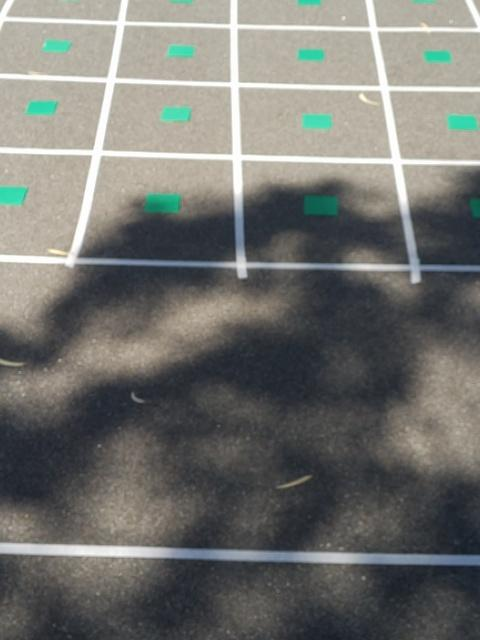weed: (302, 194, 339, 217), (144, 192, 180, 213), (446, 111, 478, 131), (0, 184, 28, 205), (25, 98, 58, 115), (301, 113, 332, 131), (161, 104, 191, 122), (422, 48, 452, 65), (41, 38, 72, 53), (296, 47, 325, 63), (166, 44, 195, 58), (295, 0, 320, 8), (470, 197, 480, 217), (412, 0, 436, 6), (165, 0, 194, 4)
